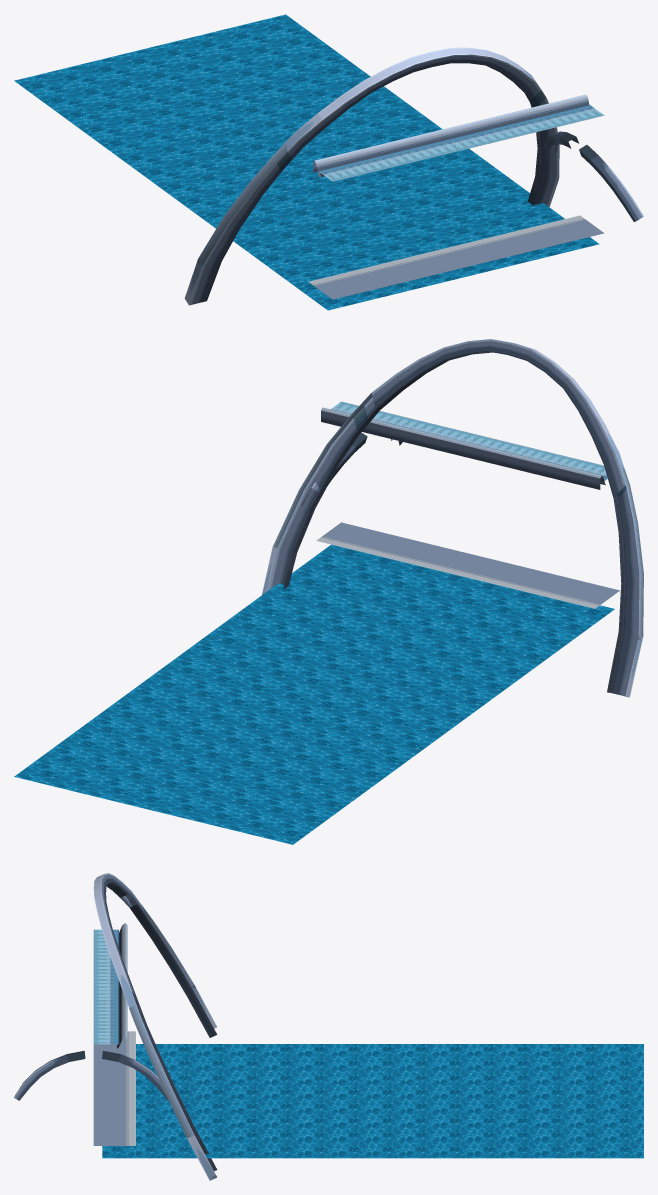
3 views of the same model, one above another, from view 1: azimuth 30°, elevation 25°; view 2: azimuth 150°, elevation 25°; view 3: azimuth 270°, elevation 25° (orthographic). The views are drawn at different scales.
Visible parts, largest first — view 1: polygon5, polygon0, polygon3, polygon4, polygon6, polygon1, polygon2, polygon7; view 2: polygon5, polygon0, polygon3, polygon6, polygon4, polygon1; view 3: polygon5, polygon0, polygon3, polygon6, polygon4, polygon1.
Boxes of the visible parts, x1,y1,x2,y2 form: polygon5: [14, 14, 599, 310]; polygon0: [189, 54, 643, 305]; polygon3: [308, 215, 603, 299]; polygon4: [318, 105, 604, 181]; polygon6: [184, 47, 543, 304]; polygon1: [313, 94, 588, 169]; polygon2: [317, 103, 589, 177]; polygon7: [277, 82, 546, 170]; polygon5: [14, 544, 614, 844]; polygon0: [267, 339, 639, 696]; polygon3: [316, 522, 619, 608]; polygon6: [262, 339, 643, 697]; polygon4: [331, 401, 607, 480]; polygon1: [321, 407, 603, 479]; polygon5: [102, 1044, 643, 1158]; polygon0: [14, 873, 217, 1171]; polygon3: [93, 1031, 135, 1145]; polygon6: [93, 874, 217, 1180]; polygon4: [93, 929, 118, 1044]; polygon1: [120, 923, 127, 1042].
Bounding box in the file's own units: 5.25 × 3.6 × 9.3.
